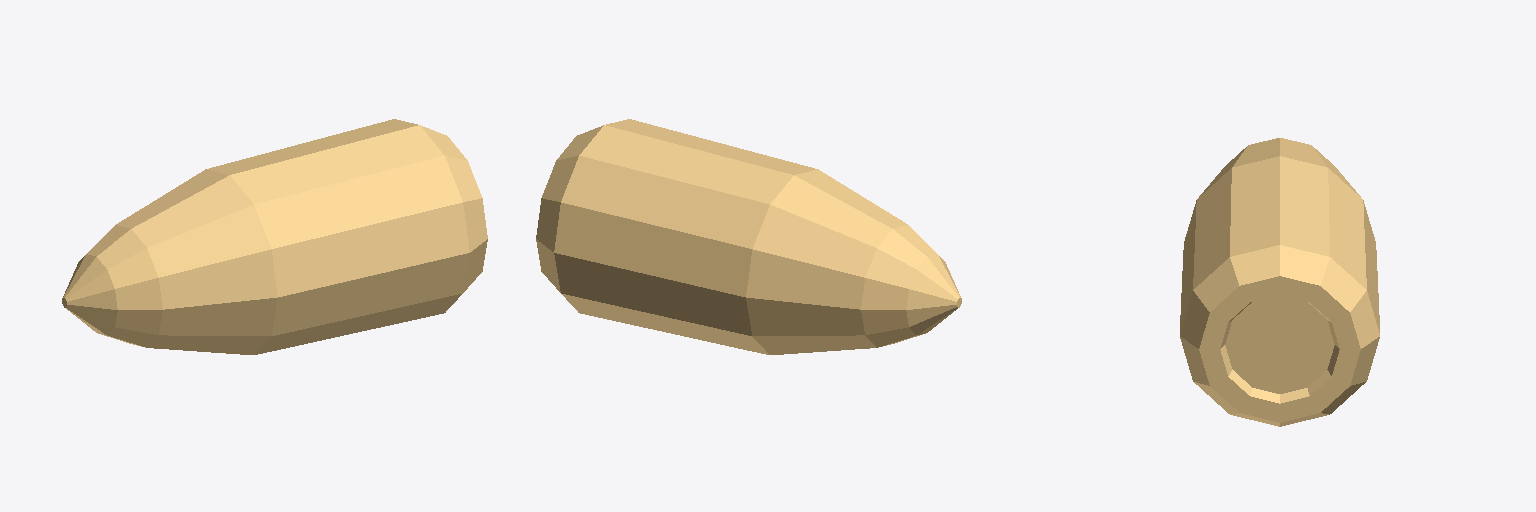
File: shell_normal.obj
The picture shows the model from 3 angles: view 1: azimuth 30°, elevation 25°; view 2: azimuth 150°, elevation 25°; view 3: azimuth 270°, elevation 25°; orthographic projection.
Visible parts, largest first — view 1: Bullet; view 2: Bullet; view 3: Bullet.
Boxes of the visible parts, box(x1,y1,x2,y2) form: Bullet: box(62, 119, 487, 354); Bullet: box(536, 119, 961, 354); Bullet: box(1180, 138, 1379, 426).
Bounding box in the file's own units: 21.15 × 9.61 × 9.61.